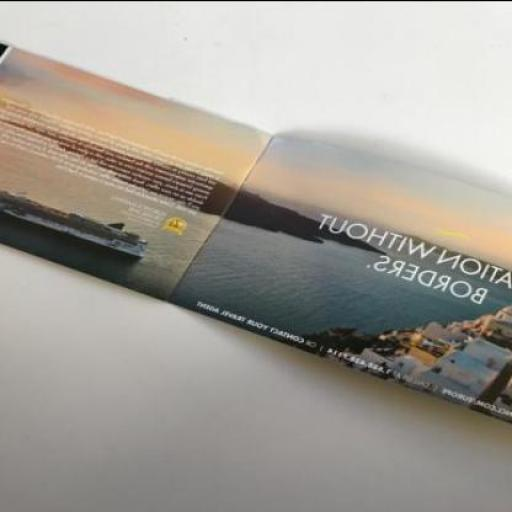paper: (0, 41, 511, 422), (168, 132, 510, 421), (0, 38, 276, 298)
